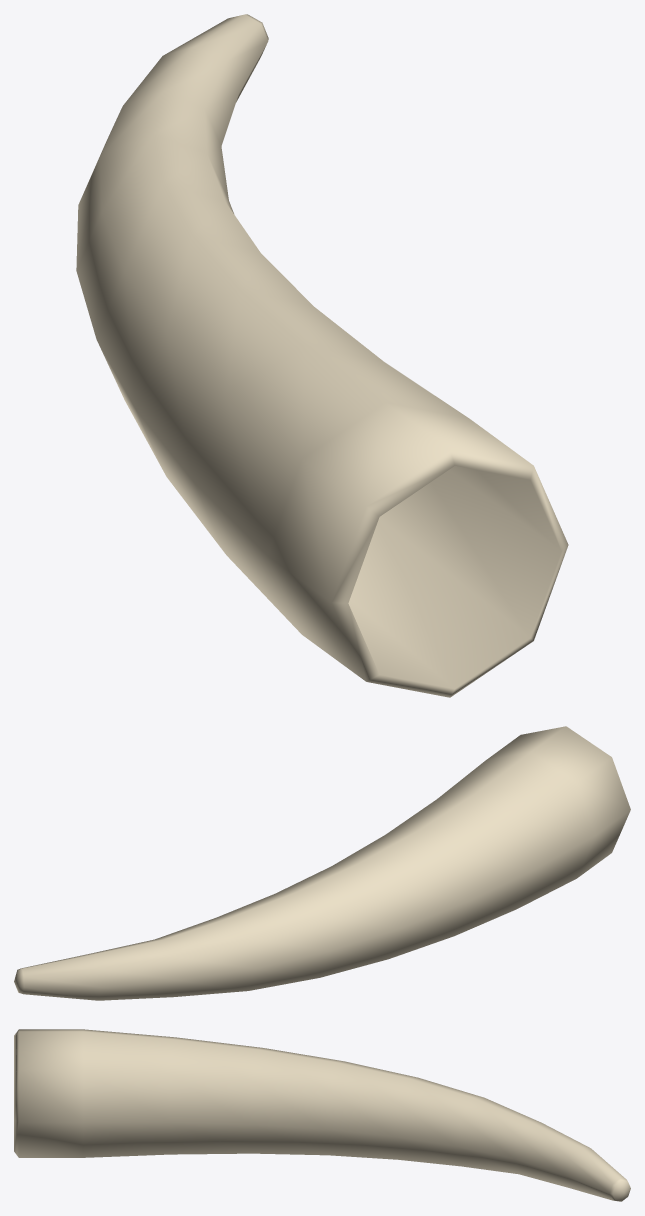
Rendered from Horn.fbx.
The picture shows the model from 3 angles, top to bottom: view 1: azimuth 30°, elevation 25°; view 2: azimuth 150°, elevation 25°; view 3: azimuth 270°, elevation 25°; orthographic projection. The views are drawn at different scales.
Parts seen in each view (by area): view 1: Horn:RoadKillOut; view 2: Horn:RoadKillOut; view 3: Horn:RoadKillOut.
Part boxes in pixels (x1=…): Horn:RoadKillOut: x1=76, y1=14, x2=568, y2=697; Horn:RoadKillOut: x1=14, y1=726, x2=630, y2=1000; Horn:RoadKillOut: x1=14, y1=1029, x2=630, y2=1201.
Bounding box in the file's own units: 65.21 × 29.1 × 131.
